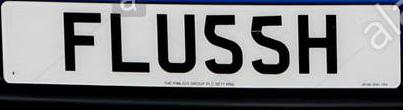5: (249, 14, 291, 74), (203, 12, 244, 73)
F: (59, 9, 102, 72)
H: (295, 12, 338, 74)
L: (107, 11, 150, 73)
U: (155, 11, 197, 72)
